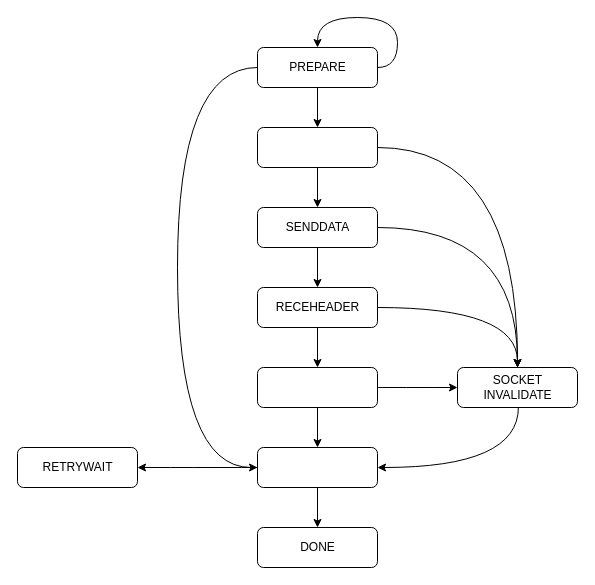
This 595x585 diagram has some shape labels left out. The box of each missing label's shape, as (x1, y1, x2, y2) in pixels:
CLEANUP: (256, 446, 378, 488)
RECVDATA: (256, 366, 378, 408)
SENDHEADER: (256, 126, 378, 168)
